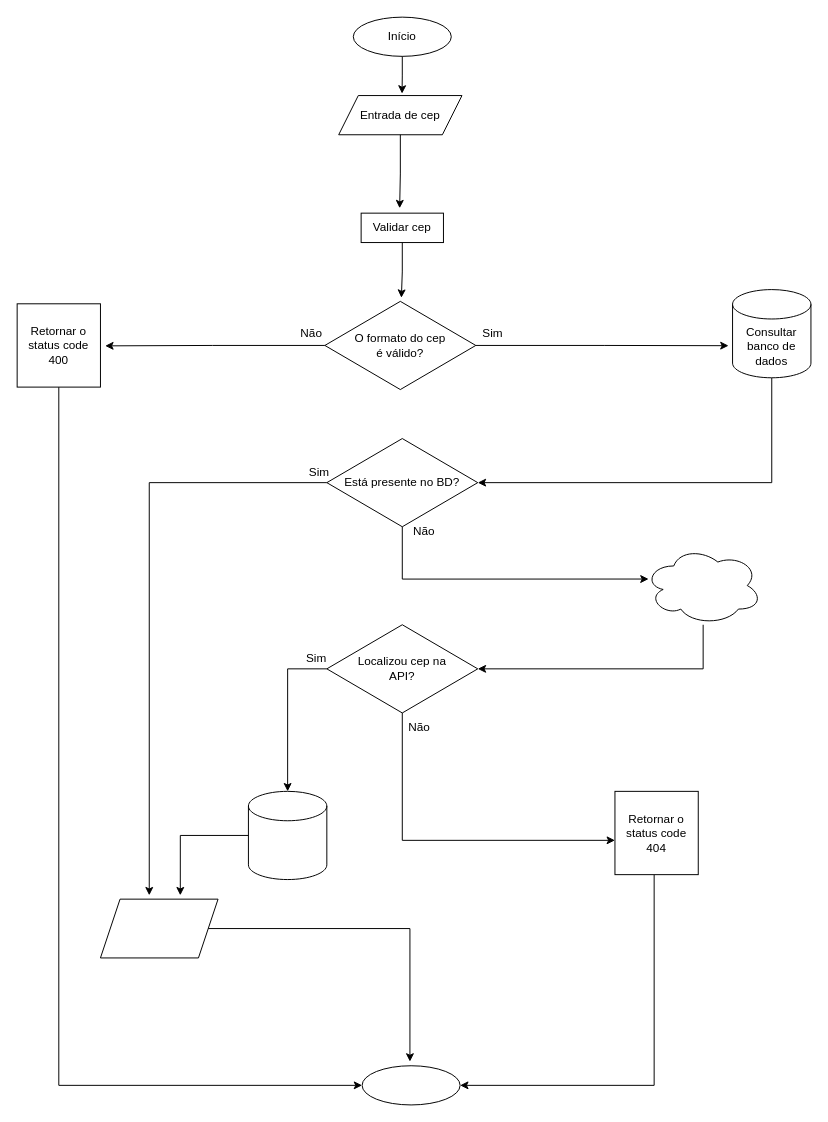
This 828x1122 diagram has some shape labels left out. Each missing label, with the centre of its shape:
"Consultar API ViaCEP" goes at (702,585).
"Fim" goes at (410,1085).
"Retornar as informações e o status code 200" goes at (158,928).
"Salvar Info no banco de dados" goes at (287,835).
